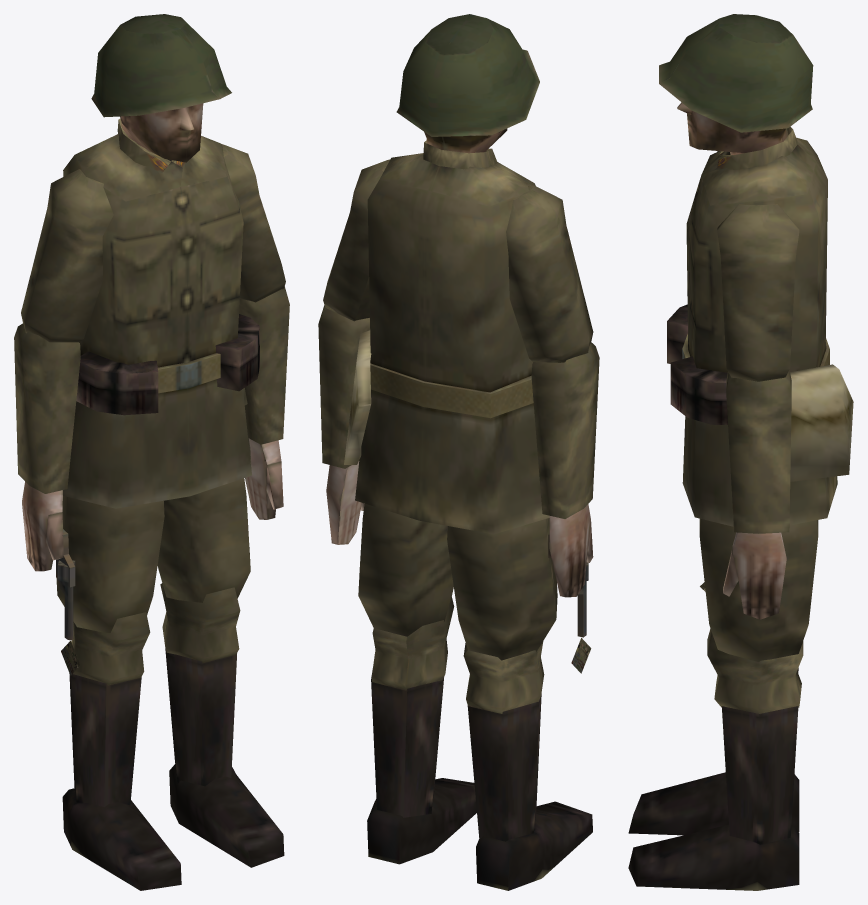
The model's file is RUSCrew.dae.
3 renders of one model, left to right at view 1: azimuth 30°, elevation 25°; view 2: azimuth 150°, elevation 25°; view 3: azimuth 270°, elevation 25°, orthographic.
Visible parts, largest first — view 1: torso, head, lleg, rleg, rloarm, ruparm, rthigh, lthigh, lloarm, rfoot, lfoot, luparm (+1 smaller); view 2: torso, head, lleg, rleg, rloarm, rthigh, ruparm, lthigh, lloarm, rfoot, lfoot, luparm (+1 smaller); view 3: torso, head, lleg, lloarm, luparm, lthigh, lfoot, rfoot.
Boxes of the visible parts, <box> form: torso: <box>63,118,259,508</box>; head: <box>91,14,231,162</box>; lleg: <box>160,583,240,786</box>; rleg: <box>69,612,150,806</box>; rloarm: <box>14,323,80,571</box>; ruparm: <box>21,169,113,342</box>; rthigh: <box>56,496,164,632</box>; lthigh: <box>157,478,250,602</box>; lloarm: <box>239,286,289,519</box>; rfoot: <box>62,788,181,890</box>; lfoot: <box>169,764,284,867</box>; luparm: <box>221,144,285,302</box>; torso: <box>344,140,549,534</box>; head: <box>396,14,539,153</box>; lleg: <box>371,596,454,817</box>; rleg: <box>463,641,544,841</box>; rloarm: <box>531,342,599,597</box>; rthigh: <box>447,518,557,660</box>; ruparm: <box>506,185,593,362</box>; lthigh: <box>358,503,453,636</box>; lloarm: <box>318,305,370,544</box>; rfoot: <box>476,801,592,890</box>; lfoot: <box>367,778,476,864</box>; luparm: <box>323,159,390,321</box>; torso: <box>667,126,853,526</box>; head: <box>659,14,813,154</box>; lleg: <box>707,628,803,844</box>; lloarm: <box>723,370,791,619</box>; luparm: <box>717,204,799,381</box>; lthigh: <box>699,518,818,661</box>; lfoot: <box>628,824,799,890</box>; rfoot: <box>628,772,799,835</box>.
Size of the model in its own units: 4.74 by 3.49 by 14.17.
